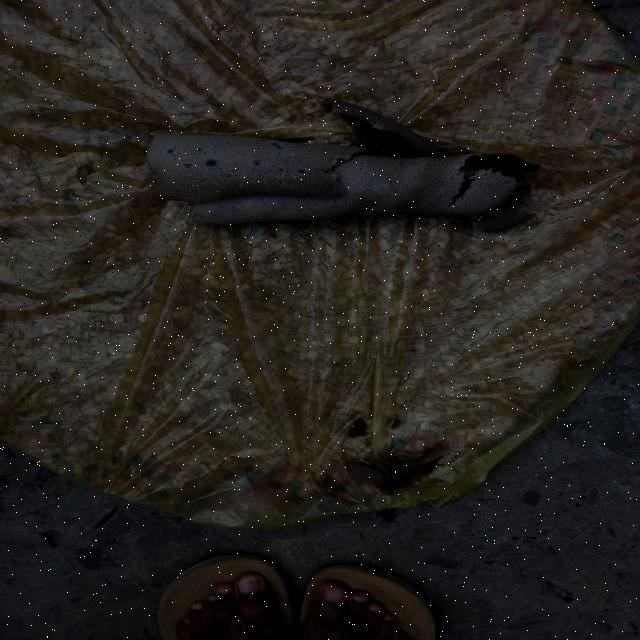injera_mold: (250, 157, 263, 170), (204, 156, 216, 170), (267, 142, 285, 150), (371, 122, 386, 131), (377, 183, 387, 196), (223, 171, 234, 182), (296, 167, 308, 177), (332, 187, 343, 197), (475, 212, 485, 223), (182, 162, 194, 170), (275, 165, 286, 173), (334, 157, 344, 165), (165, 148, 176, 155), (342, 104, 353, 111), (195, 146, 202, 155), (213, 187, 220, 196), (239, 181, 246, 190), (191, 176, 196, 188), (270, 178, 276, 188), (332, 173, 339, 181), (289, 150, 295, 157), (284, 174, 294, 178), (261, 180, 269, 184), (323, 172, 327, 179), (260, 186, 268, 188), (464, 210, 466, 213)
